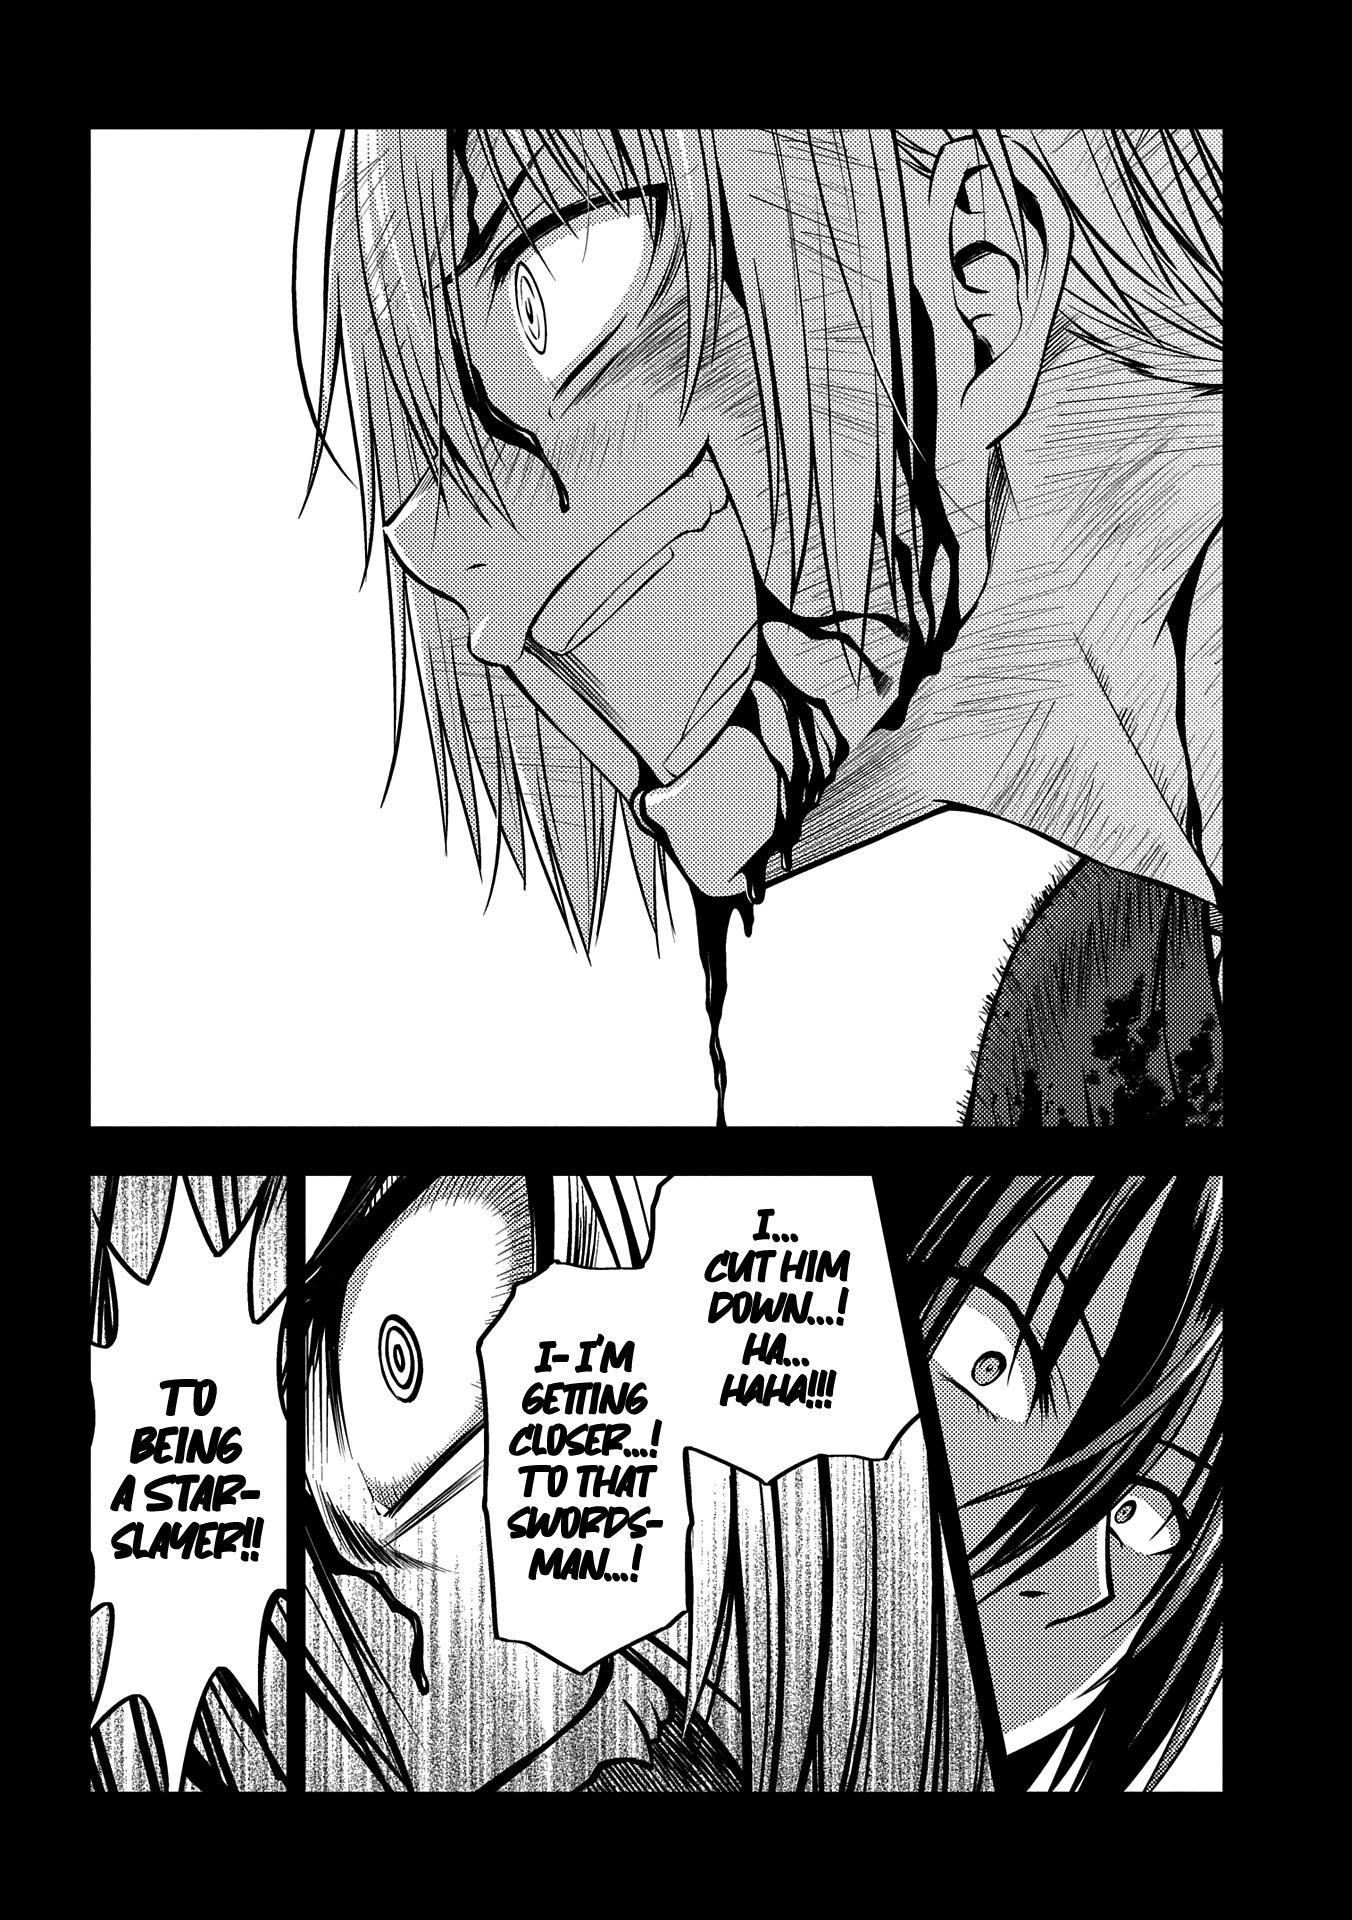Bubble: (83, 1168, 293, 1799), (474, 1250, 694, 1679), (685, 1165, 923, 1490)
